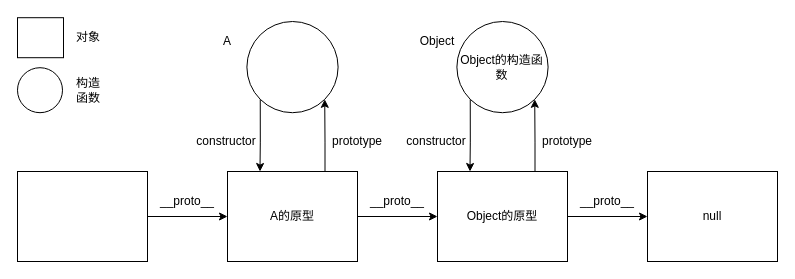
Some shapes in this 795 by 279 pixel diagram are drawn without their labels. Each missing label, with the box of its shape:
A的构造函数: (246, 20, 338, 113)
new A(): (16, 170, 148, 262)
